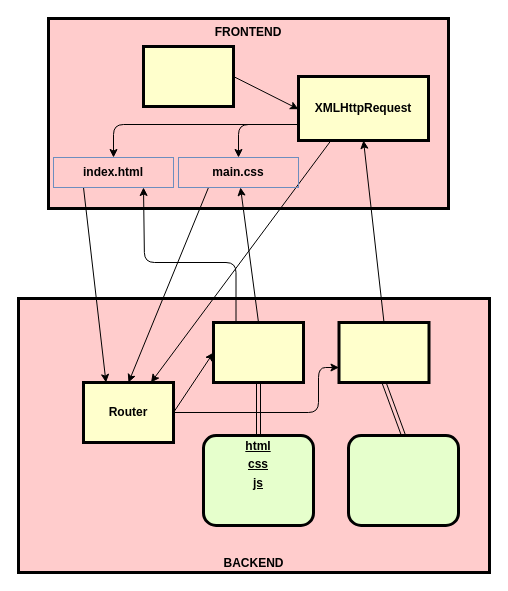
Image size: 508x591. Some labels were removed from this diagram. Here are the shapes that lost their labels. From the top down, the centre of each, then its label:
(188,76): userInput
(258,352): handlers
(383,352): algori thm
(403,480): data.json
